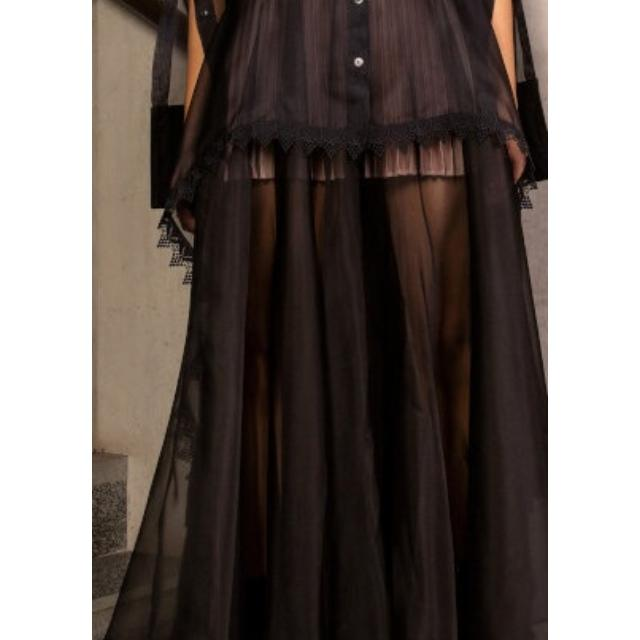silk: (184, 0, 506, 640)
